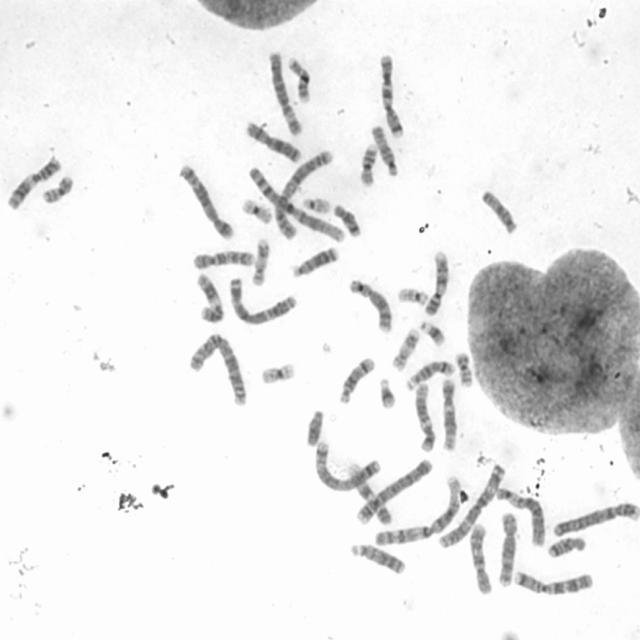A1: (246, 167, 347, 244), (372, 476, 462, 546)
A2: (274, 150, 334, 241), (187, 331, 248, 408)
A3: (437, 463, 505, 549), (229, 277, 298, 327)
B4: (355, 457, 434, 526), (552, 500, 640, 539)
B5: (177, 163, 234, 241), (314, 439, 382, 491)
C10: (469, 522, 494, 595), (193, 250, 256, 270)
C11: (6, 154, 61, 212), (196, 273, 225, 324)
C12: (439, 378, 461, 454), (414, 382, 436, 454)
C6: (495, 485, 547, 548), (267, 50, 303, 136)
C7: (378, 53, 405, 139), (512, 569, 594, 597)
C8: (348, 278, 394, 335), (498, 512, 518, 588)
C9: (345, 462, 395, 528), (424, 251, 449, 316)
D13: (350, 543, 408, 576), (293, 248, 341, 278)
D14: (337, 356, 377, 405), (406, 361, 457, 391)
D15: (481, 186, 520, 237), (370, 124, 399, 177)
E16: (286, 56, 312, 104), (358, 143, 378, 188)
E17: (391, 328, 421, 373), (250, 237, 270, 286)
E18: (332, 203, 362, 238), (548, 535, 587, 560)
F19: (260, 363, 298, 386), (242, 198, 273, 226)
F20: (42, 174, 73, 205), (454, 350, 474, 388)
G21: (419, 319, 446, 348), (377, 378, 398, 411)
G22: (301, 196, 332, 216), (398, 286, 429, 306)
X: (244, 120, 304, 164)
Y: (304, 408, 326, 446)
